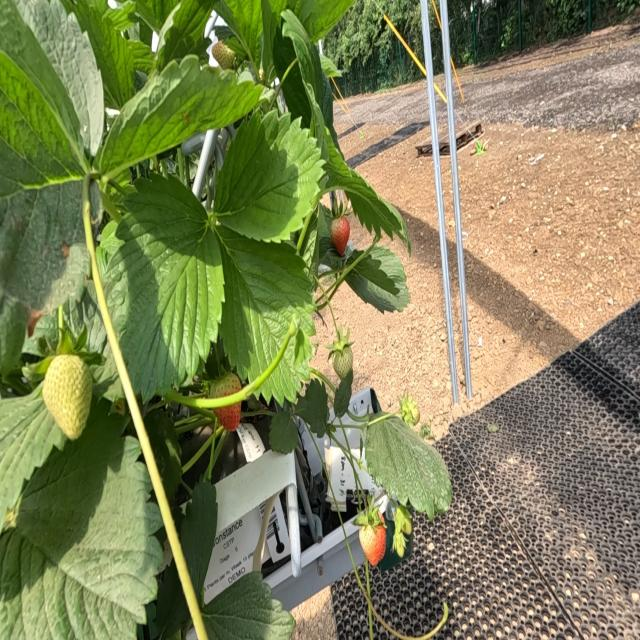Leaves: (0, 405, 164, 639), (272, 10, 405, 239), (102, 180, 224, 400), (0, 0, 104, 194), (99, 55, 262, 178), (216, 229, 314, 380), (213, 111, 325, 241), (0, 182, 89, 311), (0, 382, 67, 529), (366, 416, 451, 512), (71, 0, 136, 109), (216, 450, 295, 531), (202, 571, 294, 638), (138, 0, 218, 70), (334, 165, 407, 240), (180, 478, 217, 598), (345, 244, 408, 311), (143, 408, 182, 500), (257, 338, 311, 401), (215, 0, 262, 65), (155, 562, 191, 639), (296, 1, 353, 41), (295, 379, 329, 437), (269, 409, 299, 453), (333, 367, 353, 418)
Strawberries: (42, 354, 91, 439), (359, 514, 386, 565), (393, 508, 411, 557), (209, 373, 242, 398), (214, 401, 241, 431), (330, 217, 350, 255), (332, 346, 353, 379), (214, 405, 240, 430), (399, 394, 419, 426)
